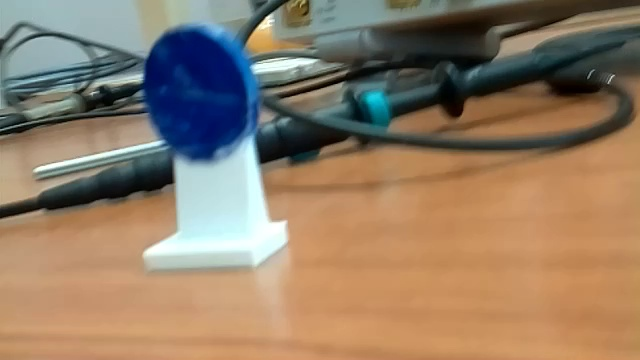circle: (111, 20, 305, 280)
